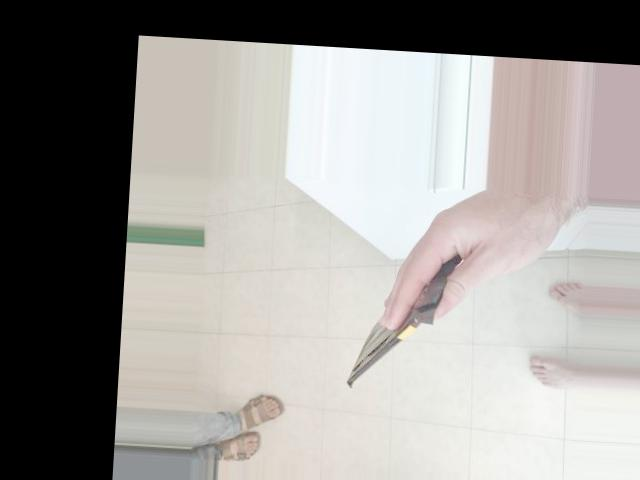chocolate: (339, 232, 468, 396)
